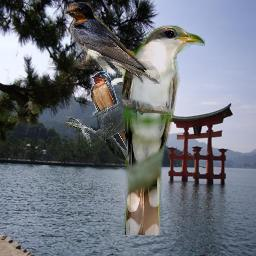Cuckoo: (120, 24, 205, 235)
Swallow: (64, 2, 162, 86), (90, 71, 140, 166)
Woodpecker: (66, 43, 168, 230)
